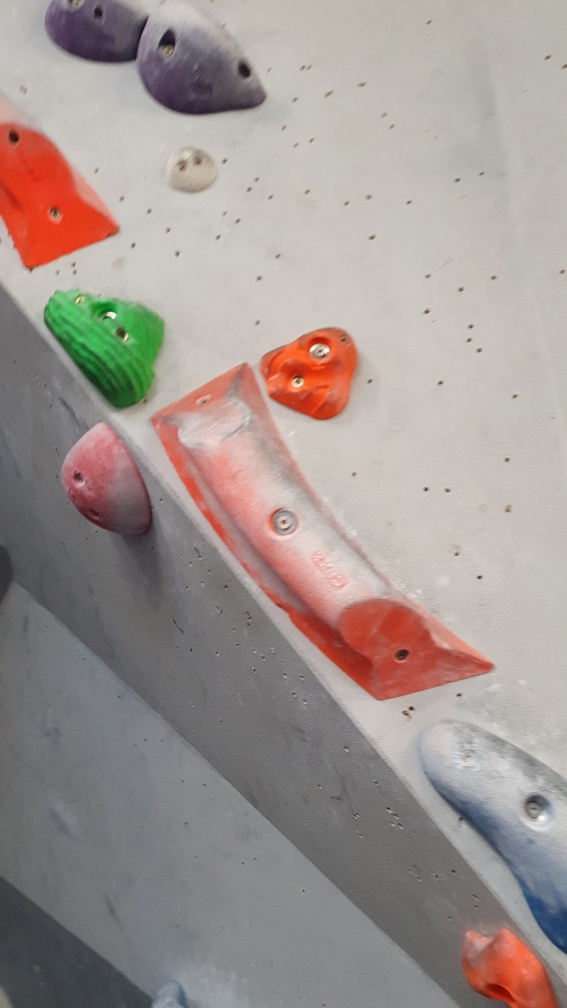Jug: (40, 281, 174, 407), (137, 1, 274, 112)
Pinch: (149, 364, 495, 700), (418, 715, 567, 954), (1, 90, 121, 273)
Sloper: (56, 417, 154, 537)
